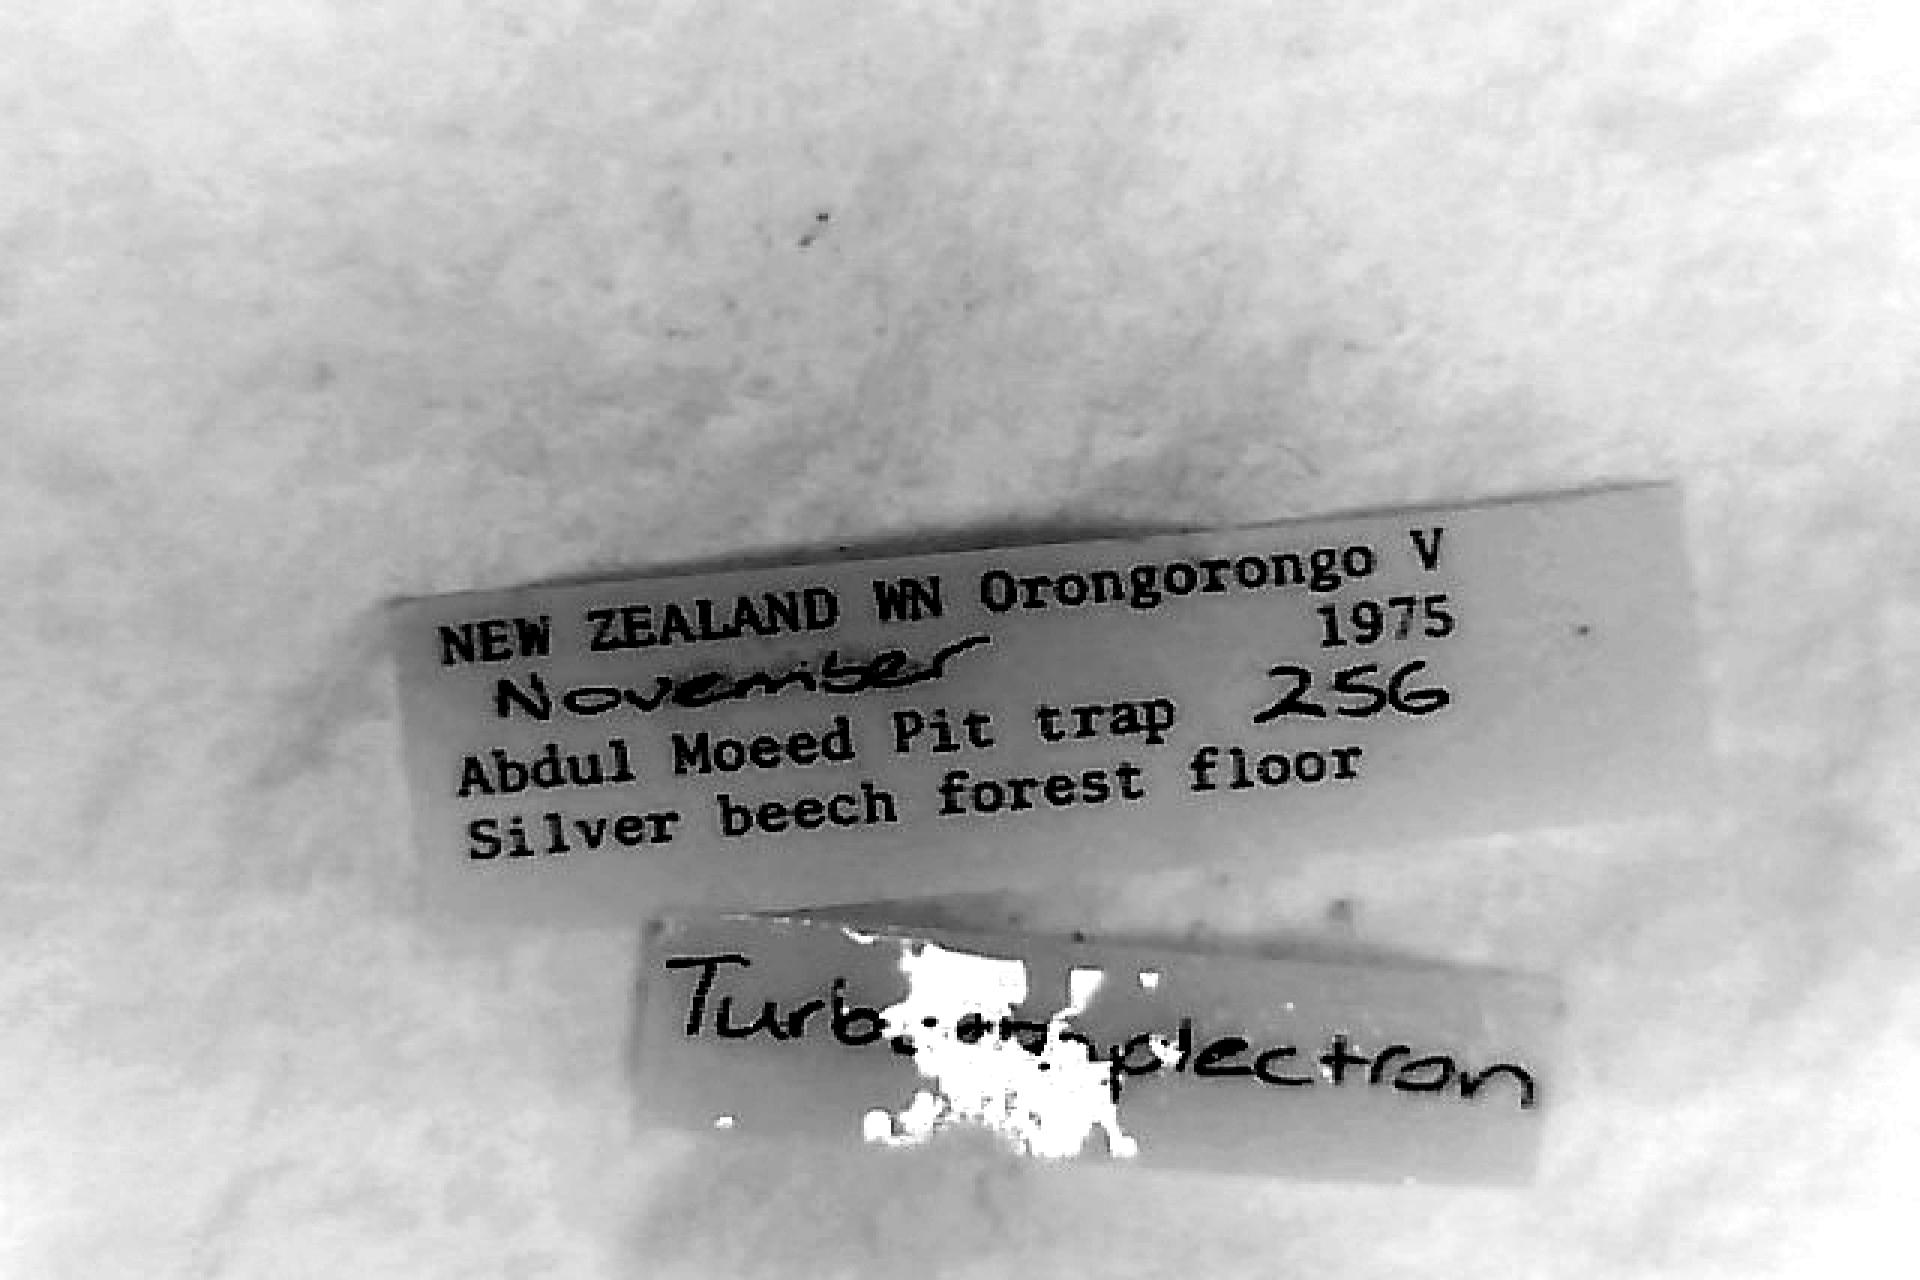mixed_label: (398, 487, 1699, 915)
